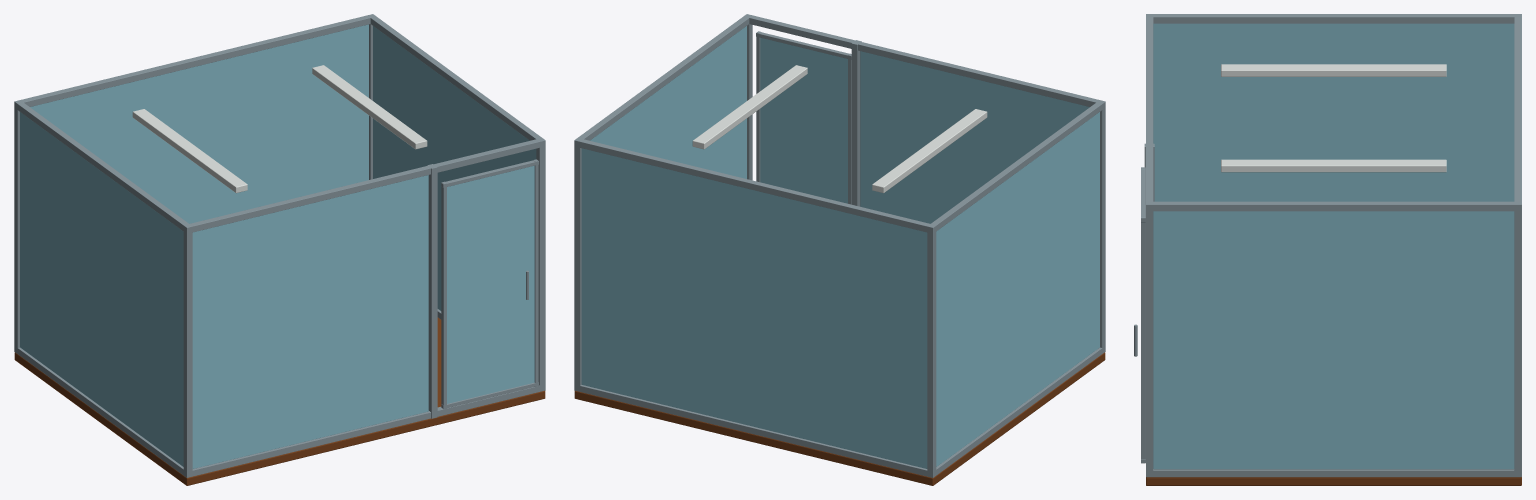
The picture shows the model from 3 angles, left to right: view 1: azimuth 30°, elevation 25°; view 2: azimuth 150°, elevation 25°; view 3: azimuth 270°, elevation 25°; orthographic projection. The views are drawn at different scales.
Parts seen in each view (by area): view 1: WALL_Front, WALL_Side, WALL_Rear, DOOR_Clear, WALL_Side.001, FLOOR, FRAME_End.001, FRAME_End.003, FRAME_End, DOOR_Jamb, FRAME_Post, FRAME_Side.001 (+9 smaller); view 2: WALL_Rear, WALL_Side, WALL_Front, DOOR_Clear, WALL_Side.001, FLOOR, FRAME_End.003, FRAME_End.001, FRAME_End.002, FRAME_Post.001, FRAME_Side.001, FRAME_Side.003 (+10 smaller); view 3: WALL_Side.001, WALL_Side, FRAME_Side.003, FRAME_Side.001, FLOOR, FRAME_Side.002, CEILING_LightRail, CEILING_LightRail.001, FRAME_Post.002, FRAME_Post.003, FRAME_End.003, FRAME_End.001 (+1 smaller).
Boxes of the visible parts, x1,y1,x2,y2 form: WALL_Front: (192, 175, 428, 468); WALL_Side: (20, 112, 183, 466); WALL_Rear: (30, 24, 368, 223); DOOR_Clear: (447, 166, 534, 403); WALL_Side.001: (373, 26, 536, 310); FLOOR: (14, 317, 545, 485); FRAME_End.001: (183, 139, 545, 233); FRAME_End.003: (15, 14, 375, 106); FRAME_End: (184, 385, 543, 477); DOOR_Jamb: (427, 164, 437, 418); FRAME_Post: (183, 225, 192, 477); FRAME_Side.001: (14, 101, 191, 233); WALL_Rear: (581, 148, 927, 468); WALL_Side: (936, 112, 1099, 466); WALL_Front: (860, 51, 1089, 223); DOOR_Clear: (760, 37, 847, 203); WALL_Side.001: (590, 26, 746, 178); FLOOR: (574, 352, 1105, 485); FRAME_End.003: (574, 138, 936, 233); FRAME_End.001: (744, 14, 1105, 106); FRAME_End.002: (577, 385, 936, 477); FRAME_Post.001: (927, 226, 936, 477); FRAME_Side.001: (929, 102, 1105, 232); FRAME_Side.003: (574, 15, 751, 144); WALL_Side.001: (1153, 211, 1514, 469); WALL_Side: (1153, 23, 1514, 201); FRAME_Side.003: (1146, 201, 1521, 211); FRAME_Side.001: (1146, 14, 1521, 23); FLOOR: (1146, 477, 1521, 485); FRAME_Side.002: (1146, 469, 1521, 477); CEILING_LightRail: (1221, 159, 1446, 172); CEILING_LightRail.001: (1221, 64, 1446, 76); FRAME_Post.002: (1146, 201, 1153, 473); FRAME_Post.003: (1514, 201, 1521, 471); FRAME_End.003: (1514, 14, 1521, 211); FRAME_End.001: (1146, 14, 1153, 211).
Bounding box in the file's own units: 3.6 × 2.48 × 3.09.
